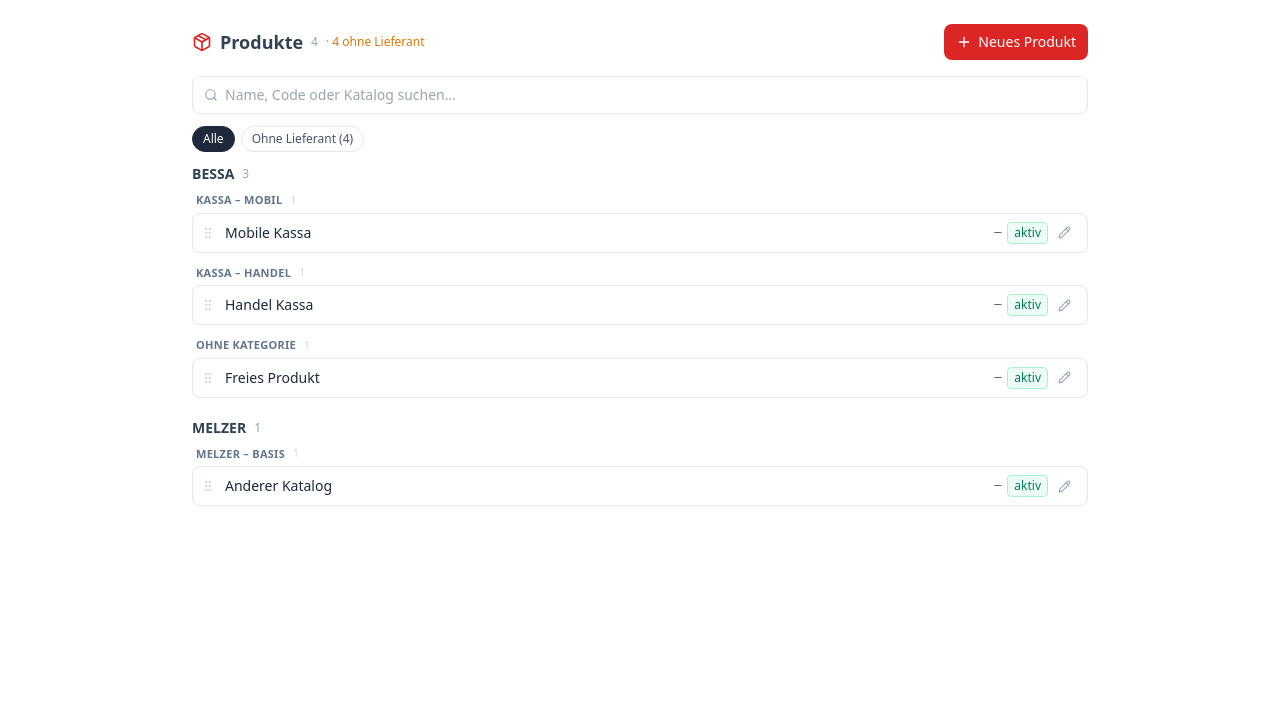
Test case: ProductsAdminPage — Jarltech SKU lookup › abgleichen resolves both suppliers by the manufacturer SKU
Click the button named "Bearbeiten" in the row of "Mobile Kassa" at (1064, 232), box x1=1054 y1=222 x2=1075 y2=243
(page scrolled)
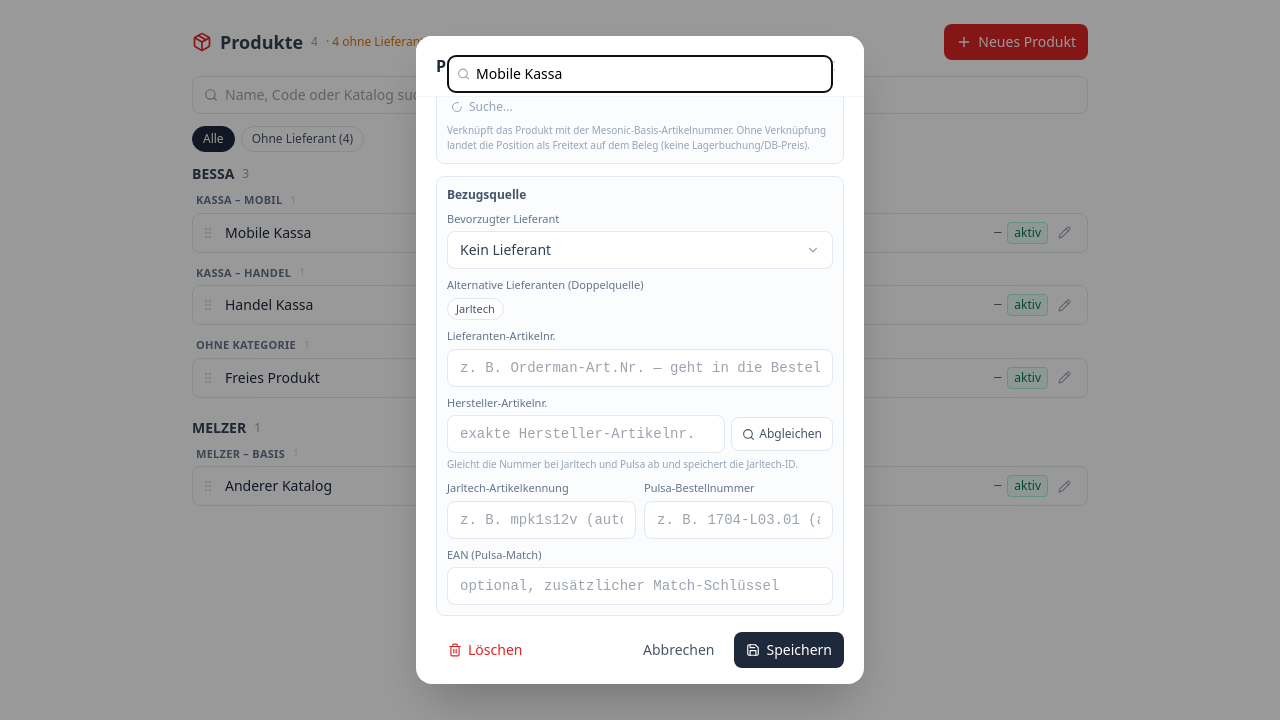
Type "SUNMI-V3-XYZ" into the field with placeholder "exakte Hersteller-Artikelnr." at (586, 434), box x1=447 y1=415 x2=725 y2=453
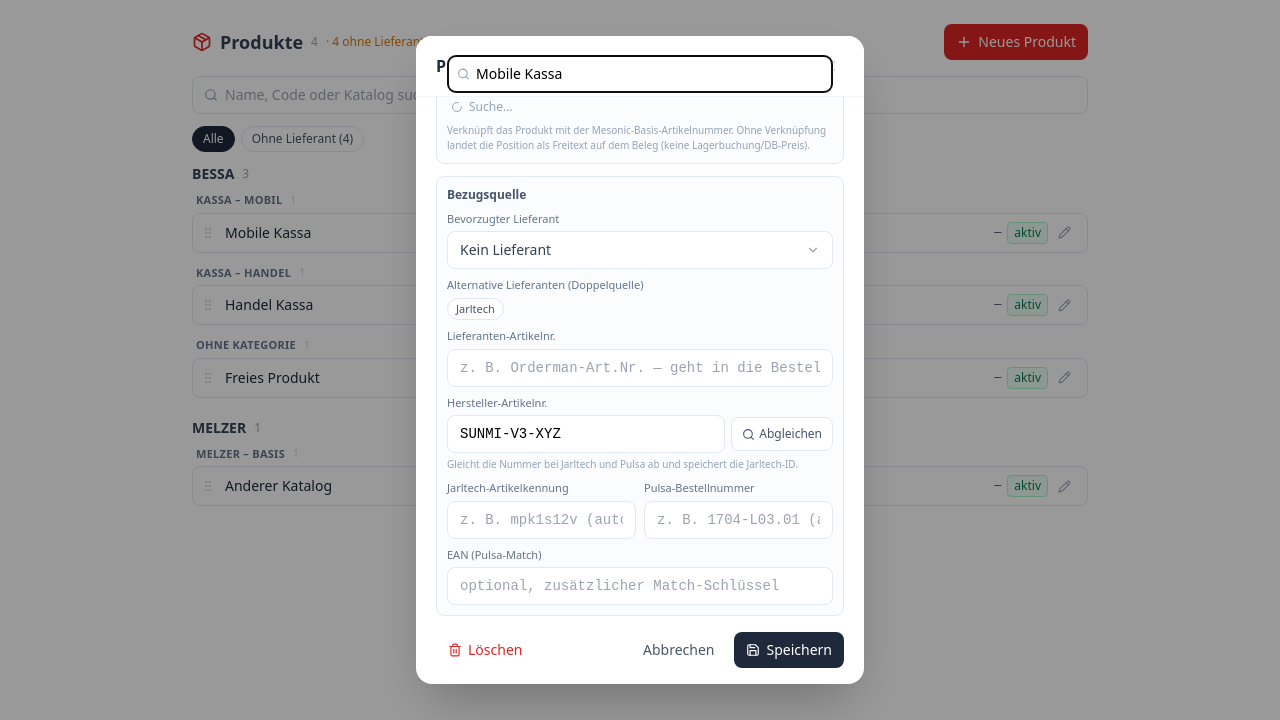
Click the button "Abgleichen" at (782, 434), box x1=731 y1=417 x2=833 y2=451
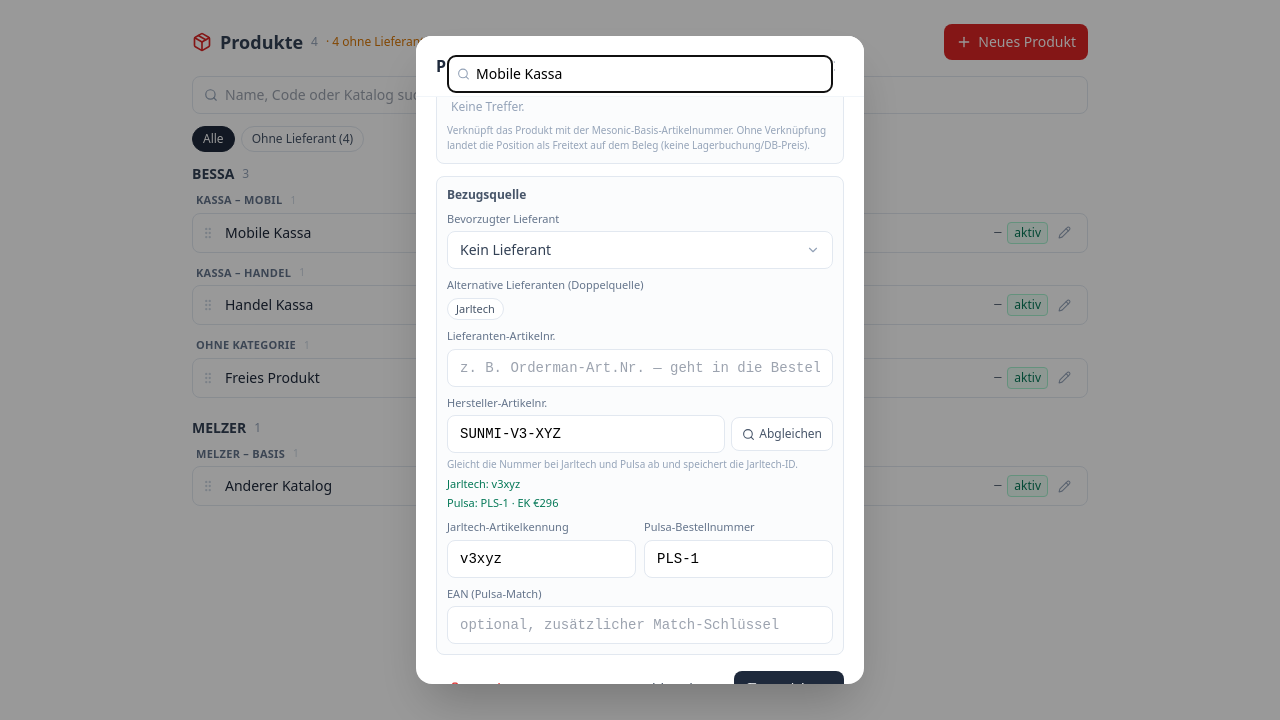
Expected: the field with placeholder "z. B. mpk1s12v (auto)" below "Jarltech-Artikelkennung" holds "v3xyz", x1=447 y1=540 x2=636 y2=578
Expected: the field with placeholder "z. B. 1704-L03.01 (auto)" below "Pulsa-Bestellnummer" holds "PLS-1", x1=644 y1=540 x2=833 y2=578
Expected: the text "Jarltech: v3xyz" is shown, x1=447 y1=476 x2=520 y2=491
